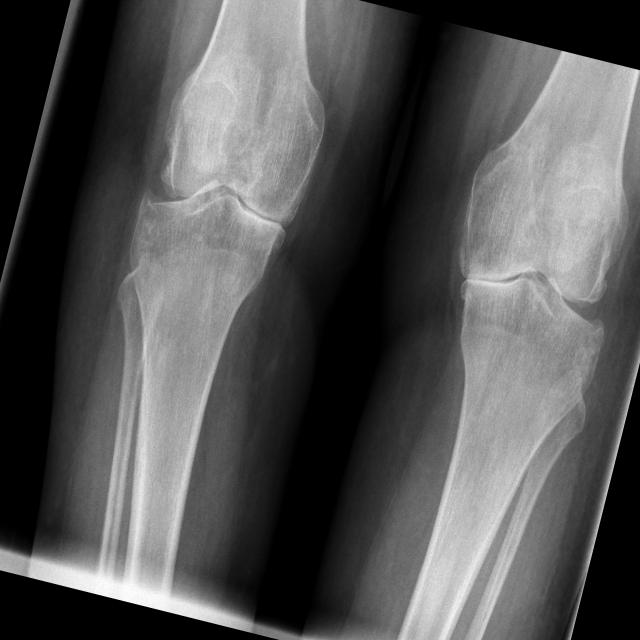Knee: (120, 110, 323, 314), (431, 194, 634, 394)
